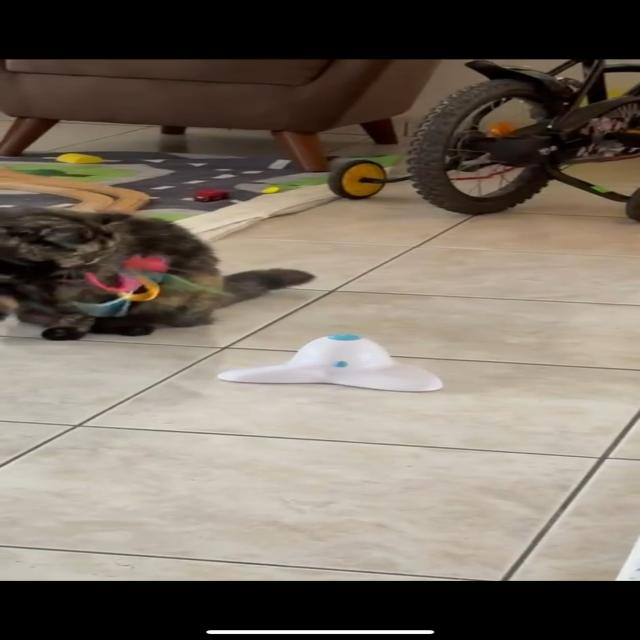authorized: (0, 204, 315, 340)
